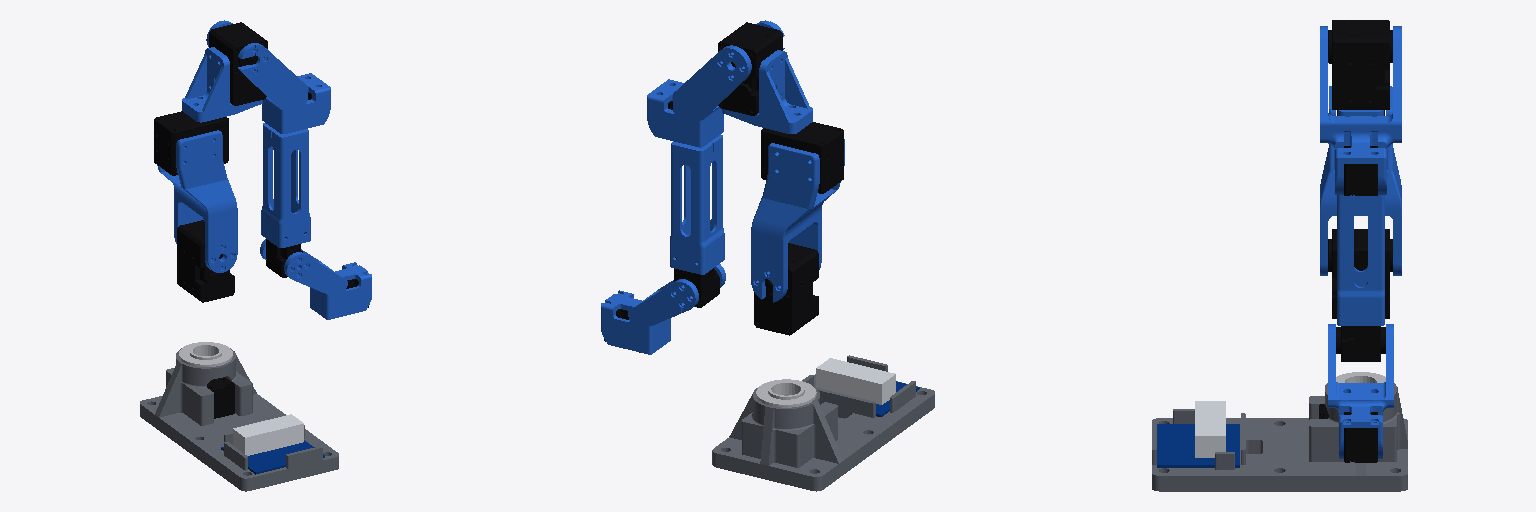
robot.urdf — ditto_leader_3xm:
<?xml version="1.0"?>
<!-- FACTR-style leader arm for the uFactory xArm7, 1:2 scale, variant 3xm, link 5 option a. Generated by leader/build.py. -->
<!-- Joint frames are the xArm7 joint frames with every length halved: same joint vector => same pose. -->
<!-- Inertial values are estimates from CAD volume and nominal servo masses. -->
<!-- link7 is the tool flange (servo 7 horn): the arm ends there, no handle or gripper is included. -->
<robot name="ditto_leader_3xm">
  <material name="print_reused"><color rgba="0.42 0.44 0.48 1"/></material>
  <material name="print_new"><color rgba="0.20 0.45 0.85 1"/></material>
  <material name="servo"><color rgba="0.09 0.09 0.10 1"/></material>
  <material name="steel"><color rgba="0.75 0.76 0.78 1"/></material>
  <material name="pcb"><color rgba="0.05 0.25 0.55 1"/></material>
  <material name="u2d2"><color rgba="0.85 0.87 0.90 1"/></material>
  <link name="base_link">
    <visual>
      <origin xyz="0.000000000 0.000000000 0.000000000" rpy="0.000000000000 -0.000000000000 0.000000000000"/>
      <geometry><mesh filename="meshes/factr_base.stl" scale="0.001 0.001 0.001"/></geometry>
      <material name="print_reused"/>
    </visual>
    <visual>
      <origin xyz="0.000000000 0.000000000 0.000000000" rpy="0.000000000000 -0.000000000000 0.000000000000"/>
      <geometry><mesh filename="meshes/bearing_3_4in.stl" scale="0.001 0.001 0.001"/></geometry>
      <material name="steel"/>
    </visual>
    <visual>
      <origin xyz="0.000000000 0.000000000 0.000000000" rpy="0.000000000000 -0.000000000000 0.000000000000"/>
      <geometry><mesh filename="meshes/servo1_xc330.stl" scale="0.001 0.001 0.001"/></geometry>
      <material name="servo"/>
    </visual>
    <visual>
      <origin xyz="0.000000000 0.000000000 0.000000000" rpy="0.000000000000 -0.000000000000 0.000000000000"/>
      <geometry><mesh filename="meshes/power_hub_board.stl" scale="0.001 0.001 0.001"/></geometry>
      <material name="pcb"/>
    </visual>
    <visual>
      <origin xyz="0.000000000 0.000000000 0.000000000" rpy="0.000000000000 -0.000000000000 0.000000000000"/>
      <geometry><mesh filename="meshes/u2d2.stl" scale="0.001 0.001 0.001"/></geometry>
      <material name="u2d2"/>
    </visual>
    <collision>
      <origin xyz="0.000000000 0.000000000 0.000000000" rpy="0.000000000000 -0.000000000000 0.000000000000"/>
      <geometry><mesh filename="meshes/factr_base.stl" scale="0.001 0.001 0.001"/></geometry>
      
    </collision>
  </link>
  <link name="link1">
    <inertial>
      <origin xyz="-0.000000 -0.000000 -0.023192" rpy="0 0 0"/>
      <mass value="0.11109"/>
      <inertia ixx="7.9205e-05" ixy="3.7288e-15" ixz="-3.6903e-17" iyy="7.8156e-05" iyz="-2.8443e-09" izz="2.1080e-05"/>
    </inertial>
    <visual>
      <origin xyz="0.000000000 0.000000000 0.000000000" rpy="0.000000000000 -0.000000000000 0.000000000000"/>
      <geometry><mesh filename="meshes/link1.stl" scale="0.001 0.001 0.001"/></geometry>
      <material name="print_new"/>
    </visual>
    <collision>
      <origin xyz="0.000000000 0.000000000 0.000000000" rpy="0.000000000000 -0.000000000000 0.000000000000"/>
      <geometry><mesh filename="meshes/link1.stl" scale="0.001 0.001 0.001"/></geometry>
      
    </collision>
    <visual>
      <origin xyz="0.000000000 0.000000000 0.000000000" rpy="-1.570796326795 -0.000000000000 -0.000000000000"/>
      <geometry><mesh filename="meshes/xm430.stl" scale="0.001 0.001 0.001"/></geometry>
      <material name="servo"/>
    </visual>
    <collision>
      <origin xyz="0.000000000 0.000000000 -0.012000000" rpy="-1.570796326795 -0.000000000000 -0.000000000000"/>
      <geometry><box size="0.02820 0.04620 0.03370"/></geometry>
    </collision>
  </link>
  <link name="link2">
    <inertial>
      <origin xyz="-0.010090 -0.073403 -0.000052" rpy="0 0 0"/>
      <mass value="0.11747"/>
      <inertia ixx="7.2159e-05" ixy="-9.5948e-06" ixz="6.2016e-08" iyy="3.3283e-05" iyz="4.8195e-07" izz="7.8107e-05"/>
    </inertial>
    <visual>
      <origin xyz="0.000000000 0.000000000 0.000000000" rpy="0.000000000000 -0.000000000000 0.000000000000"/>
      <geometry><mesh filename="meshes/3xm/link2.stl" scale="0.001 0.001 0.001"/></geometry>
      <material name="print_new"/>
    </visual>
    <collision>
      <origin xyz="0.000000000 0.000000000 0.000000000" rpy="0.000000000000 -0.000000000000 0.000000000000"/>
      <geometry><mesh filename="meshes/3xm/link2.stl" scale="0.001 0.001 0.001"/></geometry>
      
    </collision>
    <visual>
      <origin xyz="0.000000000 -0.084250000 0.000000000" rpy="0.000000000000 -1.570796326795 1.570796326795"/>
      <geometry><mesh filename="meshes/xm430.stl" scale="0.001 0.001 0.001"/></geometry>
      <material name="servo"/>
    </visual>
    <collision>
      <origin xyz="-0.012000000 -0.084250000 0.000000000" rpy="0.000000000000 -1.570796326795 1.570796326795"/>
      <geometry><box size="0.02820 0.04620 0.03370"/></geometry>
    </collision>
  </link>
  <link name="link3">
    <inertial>
      <origin xyz="0.023576 0.000000 -0.015003" rpy="0 0 0"/>
      <mass value="0.10004"/>
      <inertia ixx="3.1278e-05" ixy="2.2079e-22" ixz="-4.1165e-06" iyy="3.3821e-05" iyz="-5.8115e-23" izz="2.0995e-05"/>
    </inertial>
    <visual>
      <origin xyz="0.000000000 0.000000000 0.000000000" rpy="0.000000000000 -0.000000000000 0.000000000000"/>
      <geometry><mesh filename="meshes/3xm/link3.stl" scale="0.001 0.001 0.001"/></geometry>
      <material name="print_new"/>
    </visual>
    <collision>
      <origin xyz="0.000000000 0.000000000 0.000000000" rpy="0.000000000000 -0.000000000000 0.000000000000"/>
      <geometry><mesh filename="meshes/3xm/link3.stl" scale="0.001 0.001 0.001"/></geometry>
      
    </collision>
    <visual>
      <origin xyz="0.026250000 0.000000000 0.000000000" rpy="-1.570796326795 0.000000000000 -3.141592653590"/>
      <geometry><mesh filename="meshes/xm430.stl" scale="0.001 0.001 0.001"/></geometry>
      <material name="servo"/>
    </visual>
    <collision>
      <origin xyz="0.026250000 0.000000000 -0.012000000" rpy="-1.570796326795 0.000000000000 -3.141592653590"/>
      <geometry><box size="0.02820 0.04620 0.03370"/></geometry>
    </collision>
  </link>
  <link name="link4">
    <inertial>
      <origin xyz="0.036651 -0.042677 -0.000165" rpy="0 0 0"/>
      <mass value="0.06131"/>
      <inertia ixx="3.0455e-05" ixy="1.3523e-05" ixz="-4.2318e-07" iyy="2.7591e-05" iyz="4.3157e-07" izz="3.6407e-05"/>
    </inertial>
    <visual>
      <origin xyz="0.000000000 0.000000000 0.000000000" rpy="0.000000000000 -0.000000000000 0.000000000000"/>
      <geometry><mesh filename="meshes/link4.stl" scale="0.001 0.001 0.001"/></geometry>
      <material name="print_new"/>
    </visual>
    <collision>
      <origin xyz="0.000000000 0.000000000 0.000000000" rpy="0.000000000000 -0.000000000000 0.000000000000"/>
      <geometry><mesh filename="meshes/link4.stl" scale="0.001 0.001 0.001"/></geometry>
      
    </collision>
    <visual>
      <origin xyz="0.038750000 -0.055500000 0.000000000" rpy="0.000000000000 1.570796326795 -1.570796326795"/>
      <geometry><mesh filename="meshes/xc330.stl" scale="0.001 0.001 0.001"/></geometry>
      <material name="servo"/>
    </visual>
    <collision>
      <origin xyz="0.046250000 -0.055500000 0.000000000" rpy="0.000000000000 1.570796326795 -1.570796326795"/>
      <geometry><box size="0.01970 0.03370 0.02270"/></geometry>
    </collision>
  </link>
  <link name="link5">
    <inertial>
      <origin xyz="0.000002 -0.000000 -0.031145" rpy="0 0 0"/>
      <mass value="0.04100"/>
      <inertia ixx="4.9881e-05" ixy="-2.7786e-16" ixz="5.5767e-09" iyy="4.9208e-05" iyz="-2.1706e-15" izz="5.0850e-06"/>
    </inertial>
    <visual>
      <origin xyz="0.000000000 0.000000000 0.000000000" rpy="0.000000000000 -0.000000000000 0.000000000000"/>
      <geometry><mesh filename="meshes/link5a.stl" scale="0.001 0.001 0.001"/></geometry>
      <material name="print_new"/>
    </visual>
    <collision>
      <origin xyz="0.000000000 0.000000000 0.000000000" rpy="0.000000000000 -0.000000000000 0.000000000000"/>
      <geometry><mesh filename="meshes/link5a.stl" scale="0.001 0.001 0.001"/></geometry>
      
    </collision>
    <visual>
      <origin xyz="0.000000000 0.000000000 0.000000000" rpy="-1.570796326795 0.000000000000 -3.141592653590"/>
      <geometry><mesh filename="meshes/xc330_idler.stl" scale="0.001 0.001 0.001"/></geometry>
      <material name="servo"/>
    </visual>
    <collision>
      <origin xyz="0.000000000 0.000000000 -0.007500000" rpy="-1.570796326795 0.000000000000 -3.141592653590"/>
      <geometry><box size="0.01970 0.03370 0.02270"/></geometry>
    </collision>
  </link>
  <link name="link6">
    <inertial>
      <origin xyz="0.037248 0.030539 0.000021" rpy="0 0 0"/>
      <mass value="0.04366"/>
      <inertia ixx="1.1742e-05" ixy="-6.4941e-06" ixz="3.4125e-08" iyy="1.5637e-05" iyz="2.8753e-08" izz="1.8933e-05"/>
    </inertial>
    <visual>
      <origin xyz="0.000000000 0.000000000 0.000000000" rpy="0.000000000000 -0.000000000000 0.000000000000"/>
      <geometry><mesh filename="meshes/link6.stl" scale="0.001 0.001 0.001"/></geometry>
      <material name="print_new"/>
    </visual>
    <collision>
      <origin xyz="0.000000000 0.000000000 0.000000000" rpy="0.000000000000 -0.000000000000 0.000000000000"/>
      <geometry><mesh filename="meshes/link6.stl" scale="0.001 0.001 0.001"/></geometry>
      
    </collision>
    <visual>
      <origin xyz="0.038000000 0.038000000 0.000000000" rpy="0.000000000000 -1.570796326795 -1.570796326795"/>
      <geometry><mesh filename="meshes/xc330.stl" scale="0.001 0.001 0.001"/></geometry>
      <material name="servo"/>
    </visual>
    <collision>
      <origin xyz="0.045500000 0.038000000 0.000000000" rpy="0.000000000000 -1.570796326795 -1.570796326795"/>
      <geometry><box size="0.01970 0.03370 0.02270"/></geometry>
    </collision>
  </link>
  <link name="link7">
    <inertial>
      <origin xyz="0.000000 0.000000 0.002500" rpy="0 0 0"/>
      <mass value="0.00100"/>
      <inertia ixx="2.2083e-08" ixy="0.0000e+00" ixz="0.0000e+00" iyy="2.2083e-08" iyz="0.0000e+00" izz="4.2667e-08"/>
    </inertial>
  </link>
  <joint name="joint1" type="revolute">
    <parent link="base_link"/>
    <child link="link1"/>
    <origin xyz="0.000000000 0.000000000 0.133500000" rpy="0.000000000000 -0.000000000000 0.000000000000"/>
    <axis xyz="0 0 1"/>
    <limit lower="-6.283185307179586" upper="6.283185307179586" effort="0.92" velocity="6.8"/>
  </joint>
  <joint name="joint2" type="revolute">
    <parent link="link1"/>
    <child link="link2"/>
    <origin xyz="0.000000000 0.000000000 0.000000000" rpy="-1.570796326795 -0.000000000000 0.000000000000"/>
    <axis xyz="0 0 1"/>
    <limit lower="-2.059" upper="2.0944" effort="3.0" velocity="6.8"/>
  </joint>
  <joint name="joint3" type="revolute">
    <parent link="link2"/>
    <child link="link3"/>
    <origin xyz="0.000000000 -0.146500000 0.000000000" rpy="1.570796326795 -0.000000000000 0.000000000000"/>
    <axis xyz="0 0 1"/>
    <limit lower="-6.283185307179586" upper="6.283185307179586" effort="3.0" velocity="6.8"/>
  </joint>
  <joint name="joint4" type="revolute">
    <parent link="link3"/>
    <child link="link4"/>
    <origin xyz="0.026250000 0.000000000 0.000000000" rpy="1.570796326795 -0.000000000000 0.000000000000"/>
    <axis xyz="0 0 1"/>
    <limit lower="-0.19198" upper="3.927" effort="3.0" velocity="6.8"/>
  </joint>
  <joint name="joint5" type="revolute">
    <parent link="link4"/>
    <child link="link5"/>
    <origin xyz="0.038750000 -0.171250000 0.000000000" rpy="1.570796326795 -0.000000000000 0.000000000000"/>
    <axis xyz="0 0 1"/>
    <limit lower="-6.283185307179586" upper="6.283185307179586" effort="0.92" velocity="6.8"/>
  </joint>
  <joint name="joint6" type="revolute">
    <parent link="link5"/>
    <child link="link6"/>
    <origin xyz="0.000000000 0.000000000 0.000000000" rpy="1.570796326795 -0.000000000000 0.000000000000"/>
    <axis xyz="0 0 1"/>
    <limit lower="-1.69297" upper="3.141592653589793" effort="0.92" velocity="6.8"/>
  </joint>
  <joint name="joint7" type="revolute">
    <parent link="link6"/>
    <child link="link7"/>
    <origin xyz="0.038000000 0.048500000 0.000000000" rpy="-1.570796326795 -0.000000000000 0.000000000000"/>
    <axis xyz="0 0 1"/>
    <limit lower="-6.283185307179586" upper="6.283185307179586" effort="0.92" velocity="6.8"/>
  </joint>
</robot>

--- What the picture shows (computed from the rendered views, not written in the file) ---
3 views of the same robot in one strip: view 1: azimuth 30°, elevation 25°; view 2: azimuth 150°, elevation 25°; view 3: azimuth 270°, elevation 25° (orthographic).
Robot: ditto_leader_3xm — 8 links, 7 joints (7 revolute); root link base_link; default pose: every joint at zero.
Links seen in each view (by area): view 1: base_link, link2, link5, link3, link4, link6, link1; view 2: base_link, link2, link5, link3, link4, link6, link1; view 3: base_link, link5, link4, link3, link6, link2, link1.
Boxes of the visible links, bbox=[...] form: base_link: bbox=[140, 342, 338, 491]; link2: bbox=[154, 111, 237, 272]; link5: bbox=[261, 123, 310, 277]; link3: bbox=[182, 22, 267, 122]; link4: bbox=[206, 20, 330, 133]; link6: bbox=[260, 239, 371, 319]; link1: bbox=[177, 220, 234, 302]; base_link: bbox=[712, 355, 934, 491]; link2: bbox=[751, 122, 844, 302]; link5: bbox=[670, 134, 724, 307]; link3: bbox=[718, 22, 812, 133]; link4: bbox=[647, 20, 784, 147]; link6: bbox=[601, 264, 725, 354]; link1: bbox=[754, 243, 818, 335]; base_link: bbox=[1152, 372, 1407, 491]; link5: bbox=[1336, 195, 1385, 361]; link4: bbox=[1320, 26, 1401, 195]; link3: bbox=[1328, 20, 1392, 116]; link6: bbox=[1328, 324, 1393, 462]; link2: bbox=[1320, 86, 1401, 275]; link1: bbox=[1328, 229, 1392, 318].
Size in the robot's own frame: 0.1685 by 0.15 by 0.292 metres.
Meshes: 14 distinct files referenced, 16 mesh visuals loaded (13 binary STL); not drawn: 1 (reference not matched to a file when rendering).
